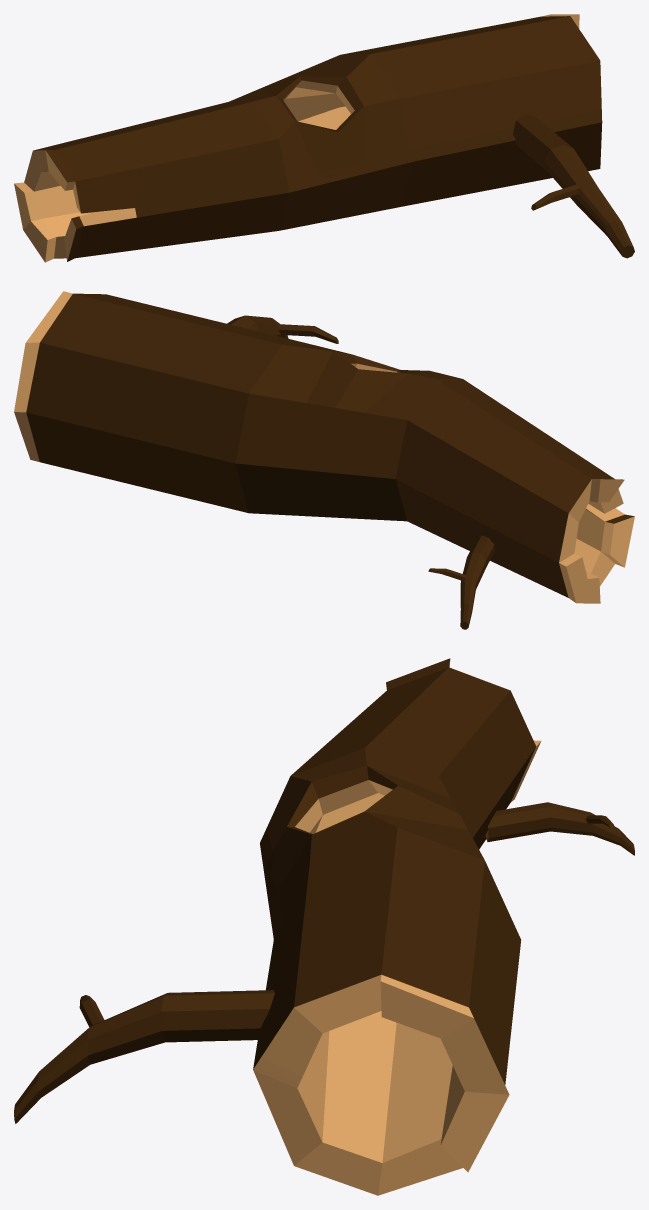
File: Log.glb
3 views of the same model, one above another, from view 1: azimuth 30°, elevation 25°; view 2: azimuth 150°, elevation 25°; view 3: azimuth 270°, elevation 25° (orthographic). The views are drawn at different scales.
Visible parts, largest first — view 1: Circle; view 2: Circle; view 3: Circle.
Part boxes in pixels (x1,y1,x2,y2): Circle: [14, 14, 634, 262]; Circle: [14, 291, 634, 629]; Circle: [14, 658, 634, 1195].
Size of the model in its own units: 0.5158 by 0.1506 by 0.3683.
